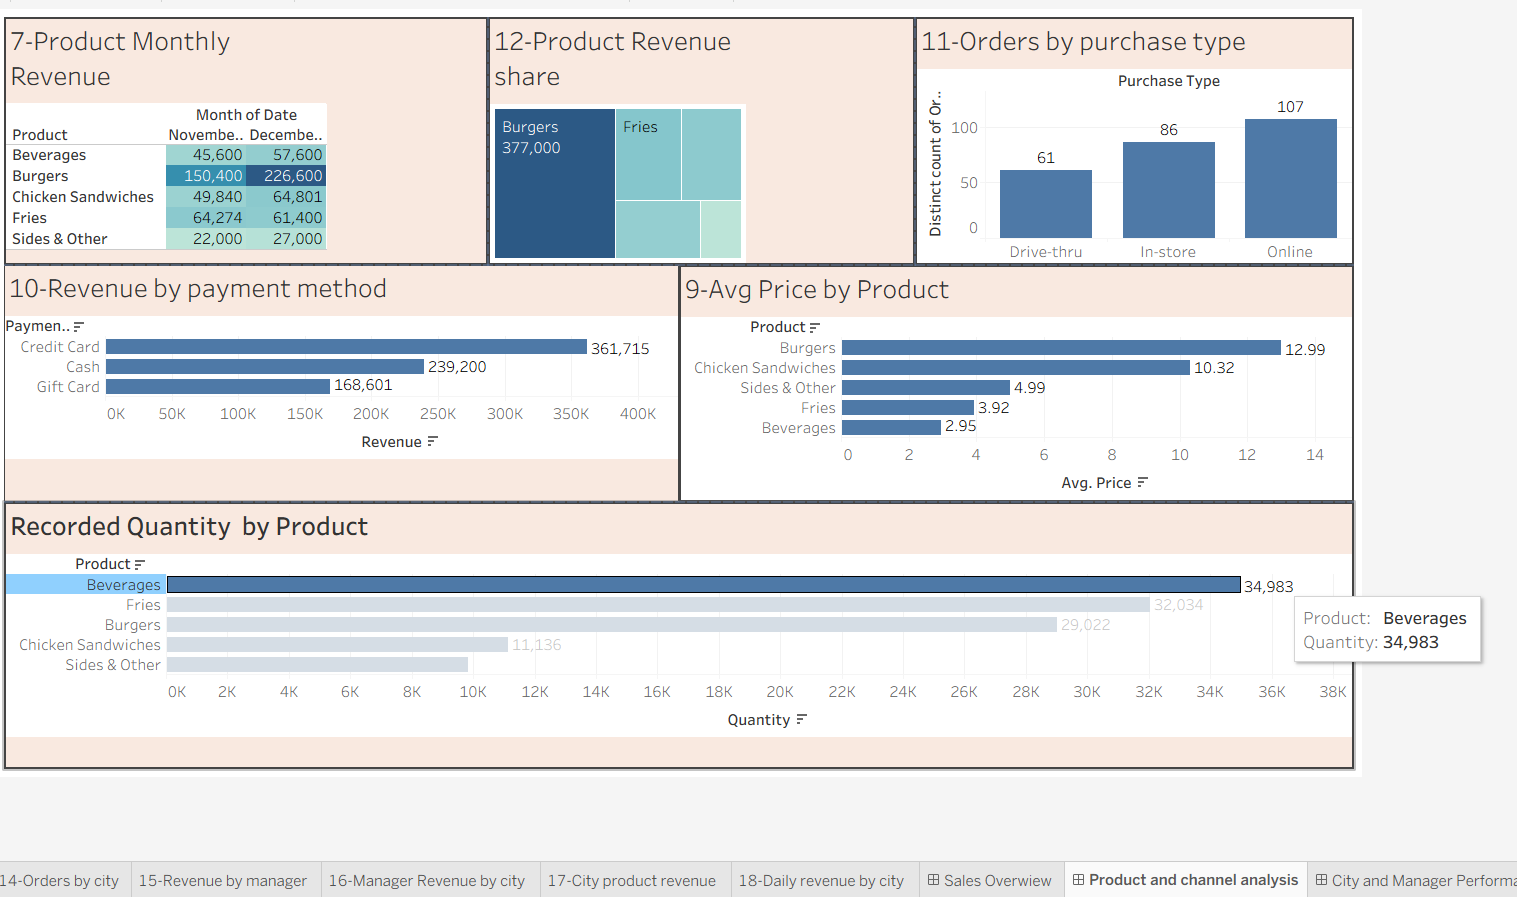

Layout of this report page (visuals, bound fields, positions):
{"tool":"tableau","page":{"name":"Product and channel analysis","canvas":[1366,768],"ordinal":1},"visuals":[{"type":"worksheet","title":"7-Product Monthly Revenue","mark":"Square","rows":["Product"],"cols":["Date"],"box":[8,8,484,248]},{"type":"worksheet","title":"12-Product Revenue share","mark":"Automatic","box":[492,8,427,248]},{"type":"worksheet","title":"11-Orders by purchase type","mark":"Bar","rows":["Order ID"],"cols":["Purchase Type"],"box":[919,8,439,248]},{"type":"worksheet","title":"10-Revenue by payment method","mark":"Bar","rows":["Payment Method"],"cols":["Revenue"],"box":[8,256,675,237]},{"type":"worksheet","title":"9-Avg Price by Product","mark":"Bar","rows":["Product"],"cols":["Price"],"box":[683,256,675,237]},{"type":"worksheet","title":"8-Quantity by Product","mark":"Bar","rows":["Product"],"cols":["Quantity"],"box":[8,493,1350,267]}]}

Visuals, with their boxes on the page's 1366x768 design canvas (x1, y1, x2, y2). These are canvas units, not pixel positions in the 1517x897 screenshot, which may show the page scaled, cropped or inside an application window:
"7-Product Monthly Revenue" worksheet (Square marks): <region>8, 8, 492, 256</region>
"12-Product Revenue share" worksheet: <region>492, 8, 919, 256</region>
"11-Orders by purchase type" worksheet (Bar marks): <region>919, 8, 1358, 256</region>
"10-Revenue by payment method" worksheet (Bar marks): <region>8, 256, 683, 493</region>
"9-Avg Price by Product" worksheet (Bar marks): <region>683, 256, 1358, 493</region>
"8-Quantity by Product" worksheet (Bar marks): <region>8, 493, 1358, 760</region>
